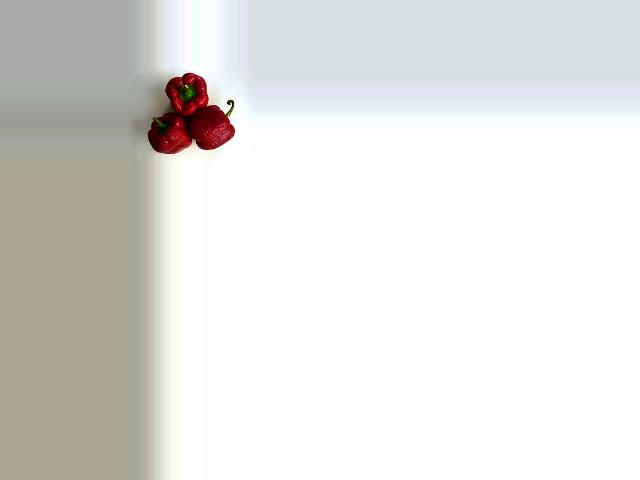bell_pepper: (192, 97, 245, 152)
